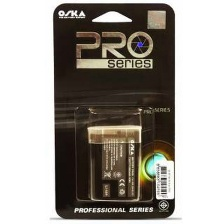battery: (83, 123, 146, 204)
